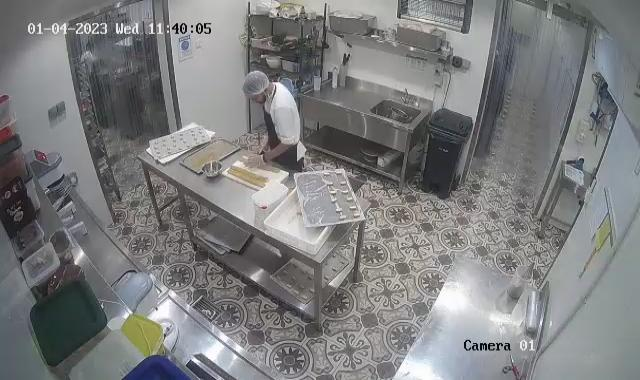hairnet: (242, 66, 270, 100)
